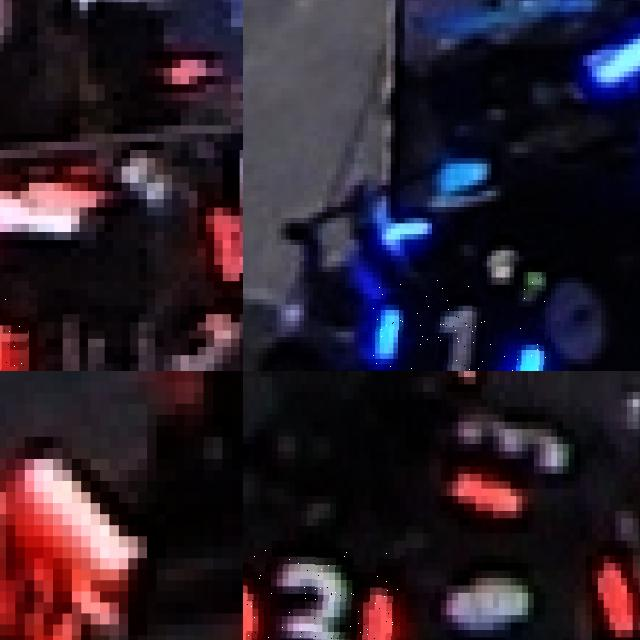B1: (372, 277, 550, 371)
R3: (243, 548, 400, 640)
R4: (0, 558, 91, 640)
